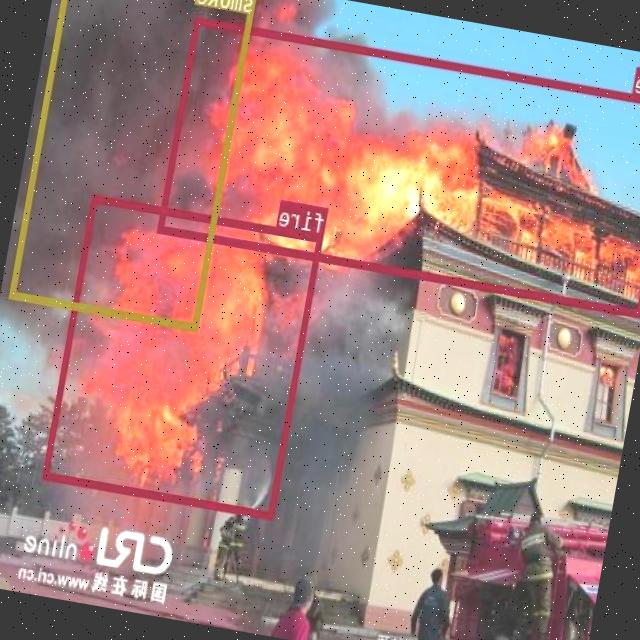fire: (159, 16, 640, 316), (43, 192, 324, 518)
smoke: (9, 0, 258, 330)
